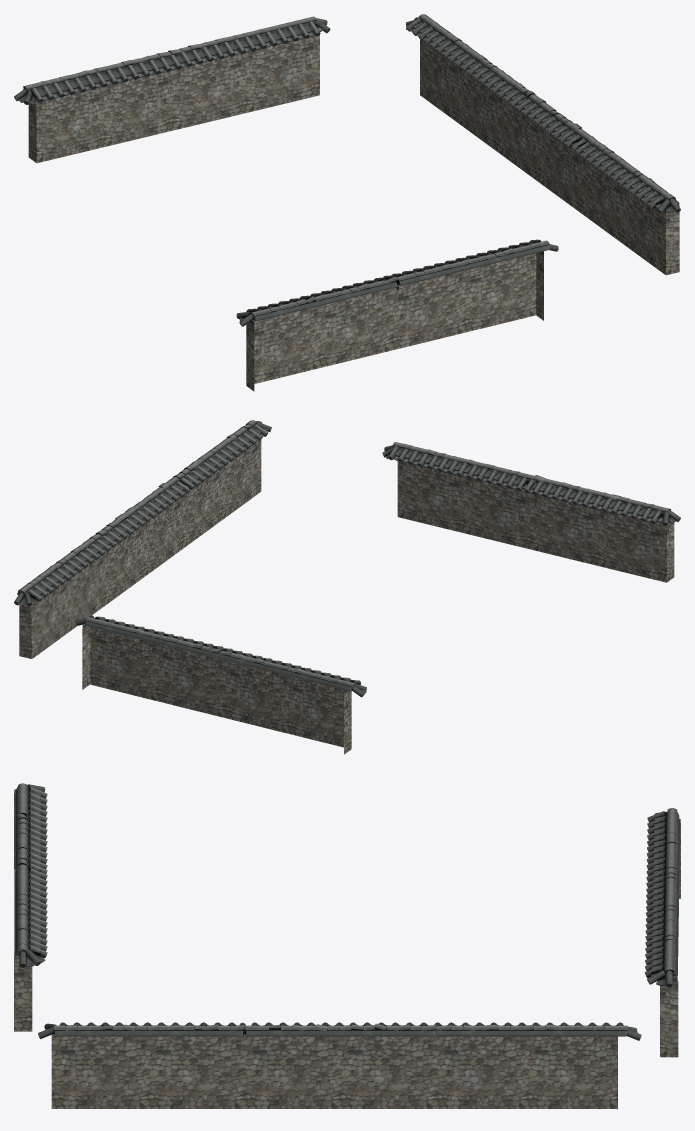
File: TraditionalKoreanHouse_Stonewall.fbx
3 views of the same model, one above another, from view 1: azimuth 30°, elevation 25°; view 2: azimuth 150°, elevation 25°; view 3: azimuth 270°, elevation 25° (orthographic). The views are drawn at different scales.
Parts seen in each view (by area): view 1: TraditionalKoreanHouse_Stonewall; view 2: TraditionalKoreanHouse_Stonewall; view 3: TraditionalKoreanHouse_Stonewall.
Boxes of the visible parts, bbox=[...] form: TraditionalKoreanHouse_Stonewall: bbox=[14, 14, 680, 391]; TraditionalKoreanHouse_Stonewall: bbox=[14, 420, 680, 754]; TraditionalKoreanHouse_Stonewall: bbox=[14, 783, 680, 1109].
Bounding box in the file's own units: 1531 × 266 × 1704.
